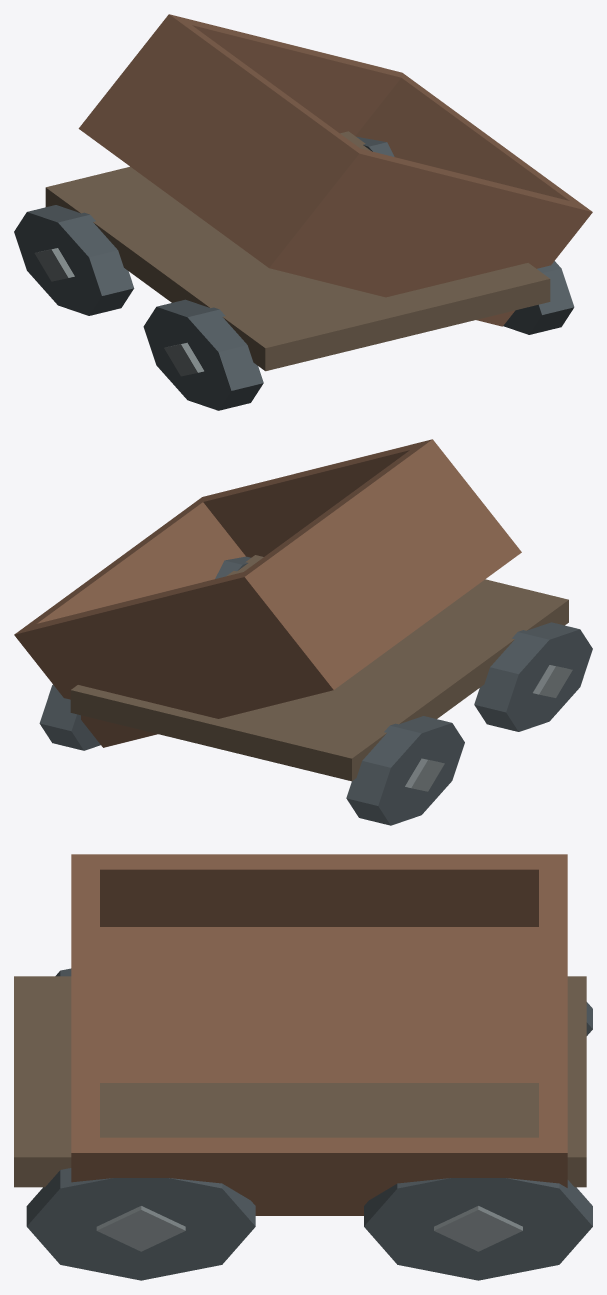
Rendered from ore_cart_tipped.glb.
The picture shows the model from 3 angles, top to bottom: view 1: azimuth 30°, elevation 25°; view 2: azimuth 150°, elevation 25°; view 3: azimuth 270°, elevation 25°; orthographic projection. The views are drawn at different scales.
Parts seen in each view (by area): view 1: ore_cart_tipped; view 2: ore_cart_tipped; view 3: ore_cart_tipped.
Part boxes in pixels (x1,y1,x2,y2): ore_cart_tipped: (14,14,592,410); ore_cart_tipped: (14,439,592,825); ore_cart_tipped: (14,854,592,1280).
Bounding box in the file's own units: 1.92 × 1.1 × 1.92.
